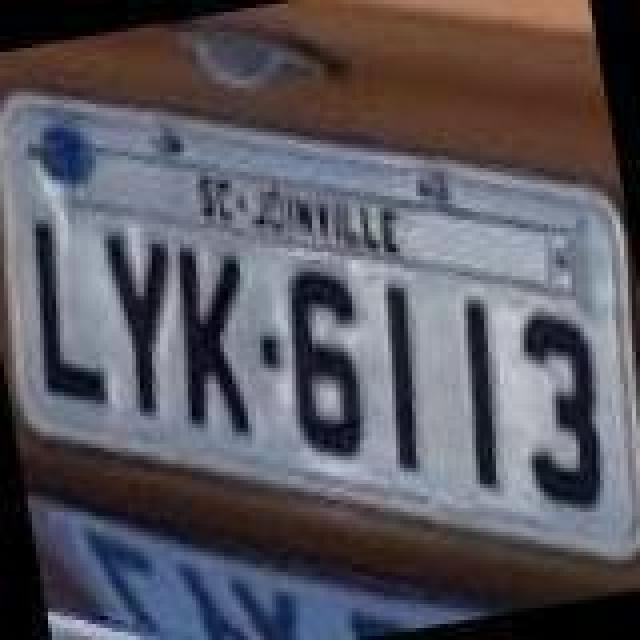1: (442, 290, 518, 494), (362, 278, 438, 474)
3: (502, 304, 618, 520)
6: (272, 262, 384, 466)
K: (160, 236, 272, 444)
L: (14, 210, 114, 414)
Y: (96, 228, 192, 420)
